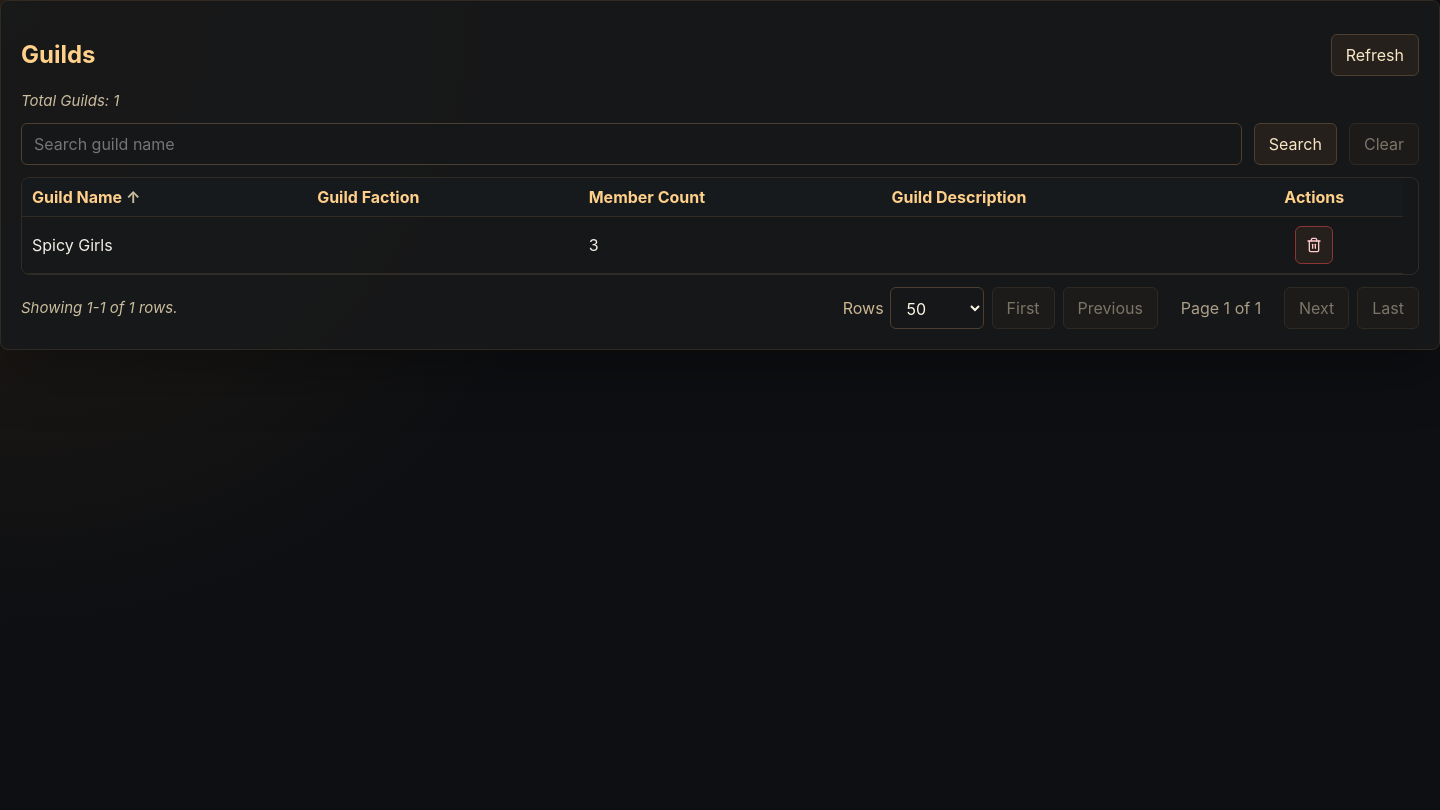
Scenario: GuildsPanel member actions › only searches players after Search is clicked, not on keystroke
Click the text "Spicy Girls". click: coordinates (165, 245)
box: [22,216,307,273]
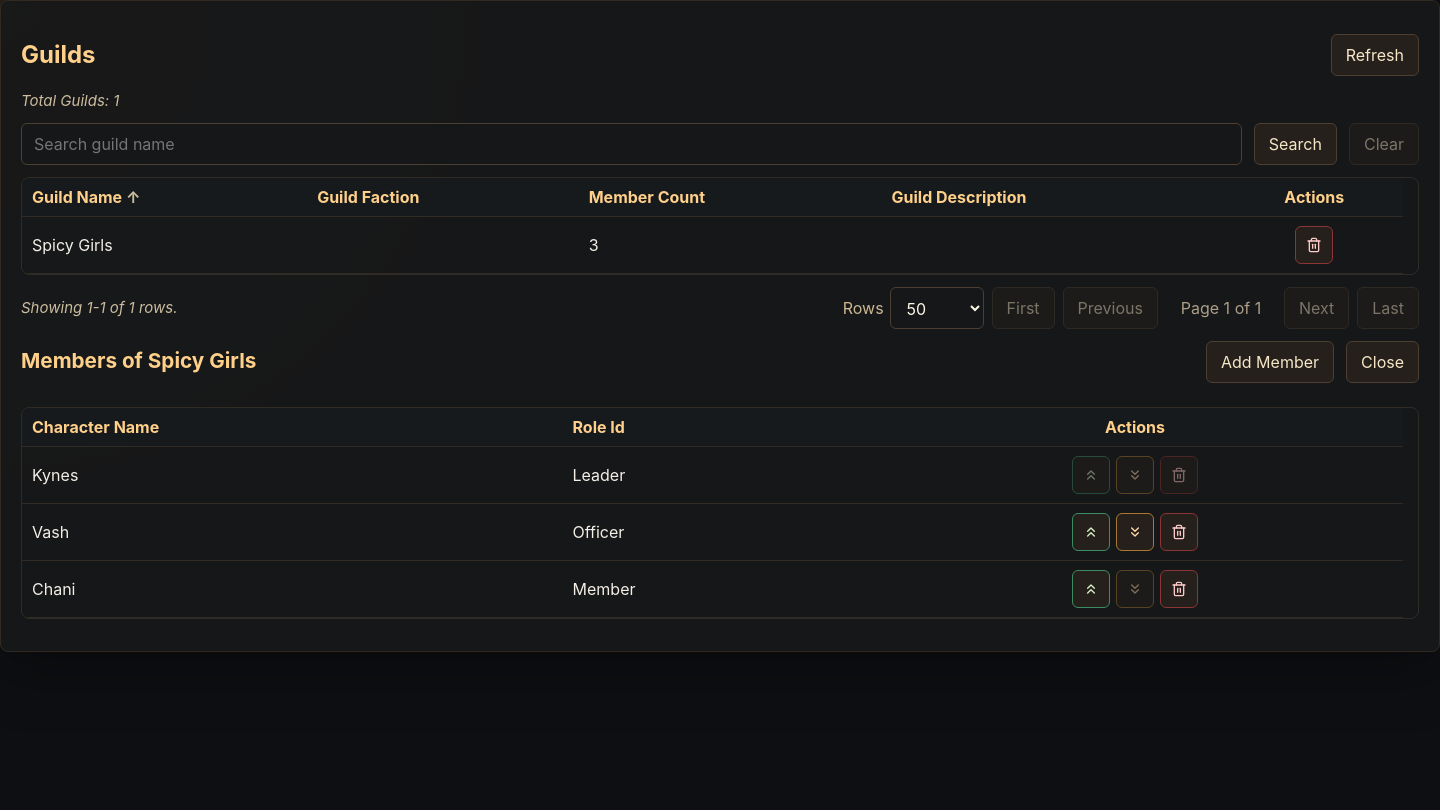
Expected: the text "Kynes" is shown, [22,446,562,503]
Click the button "Add Member". click: coordinates (1270, 362)
box: [1206,341,1334,383]
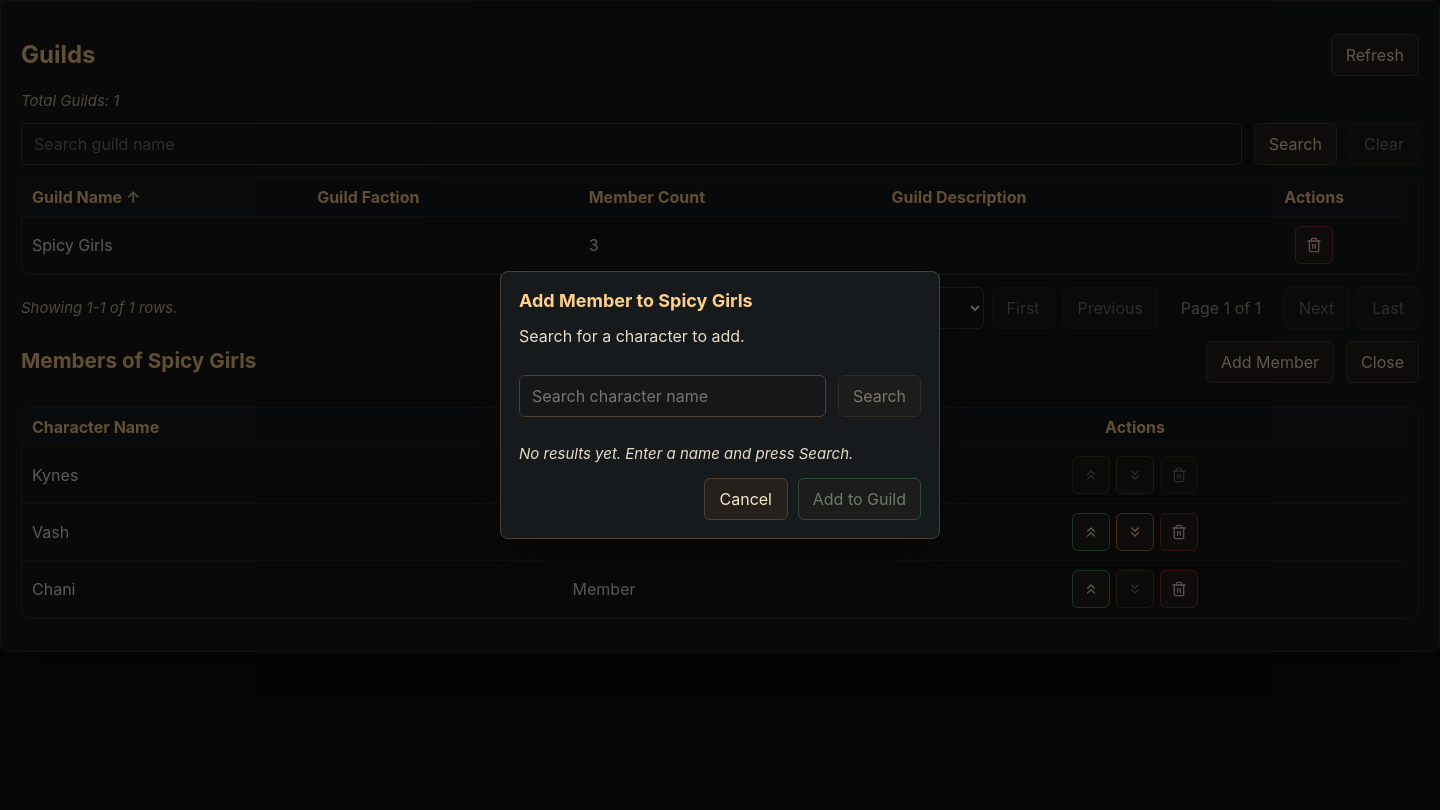
Type "Dun" into the field with placeholder "Search character name". click: coordinates (672, 396)
box: [519,374,826,416]
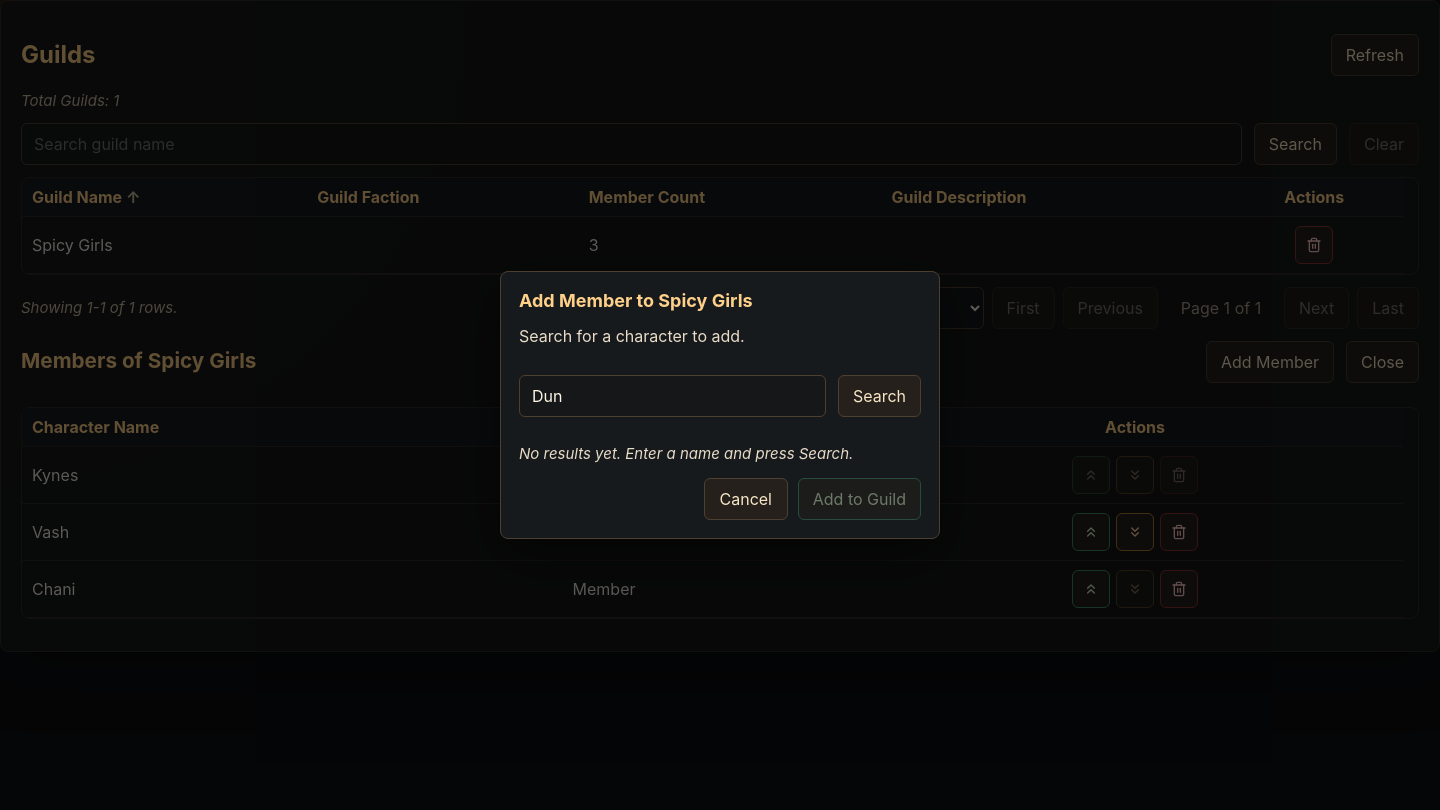
Click the button "Search". click: coordinates (879, 396)
box: [838,374,921,416]
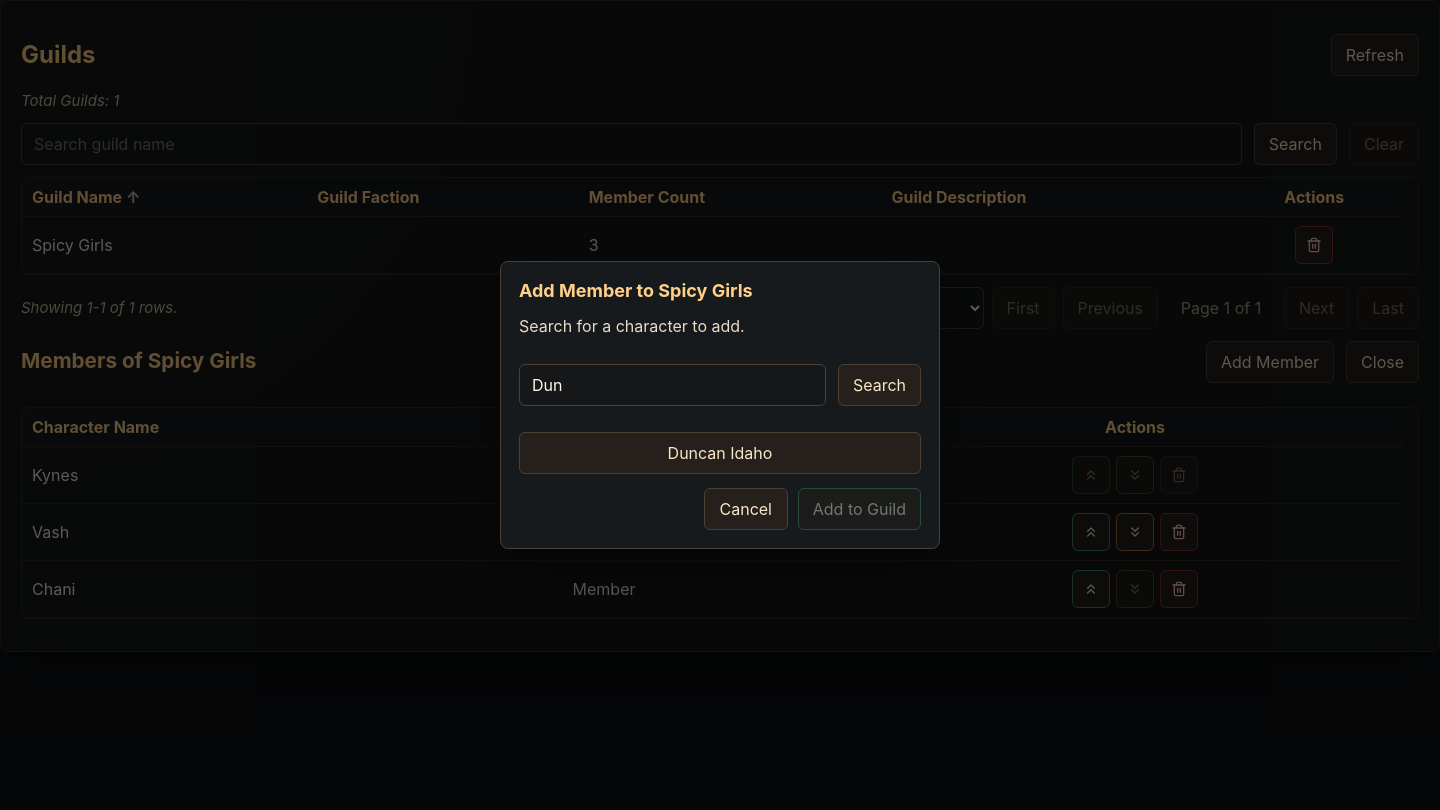
Expected: the button "Duncan Idaho" is shown, [519,432,921,474]
